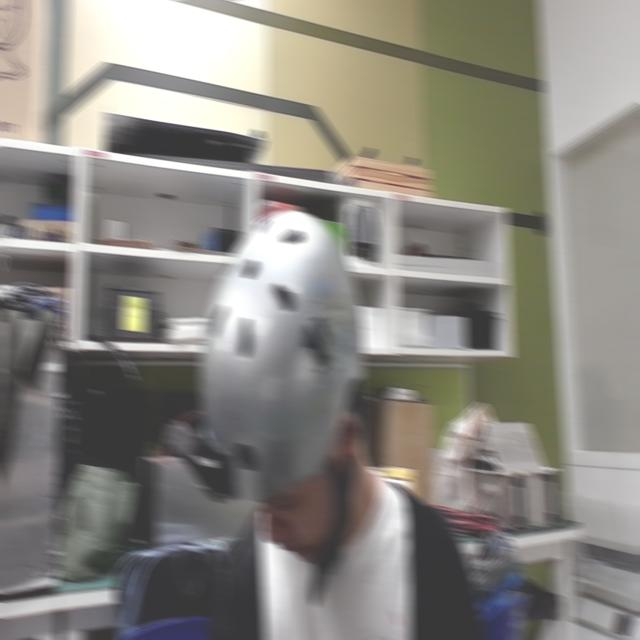With Helmet: (142, 181, 425, 614)
